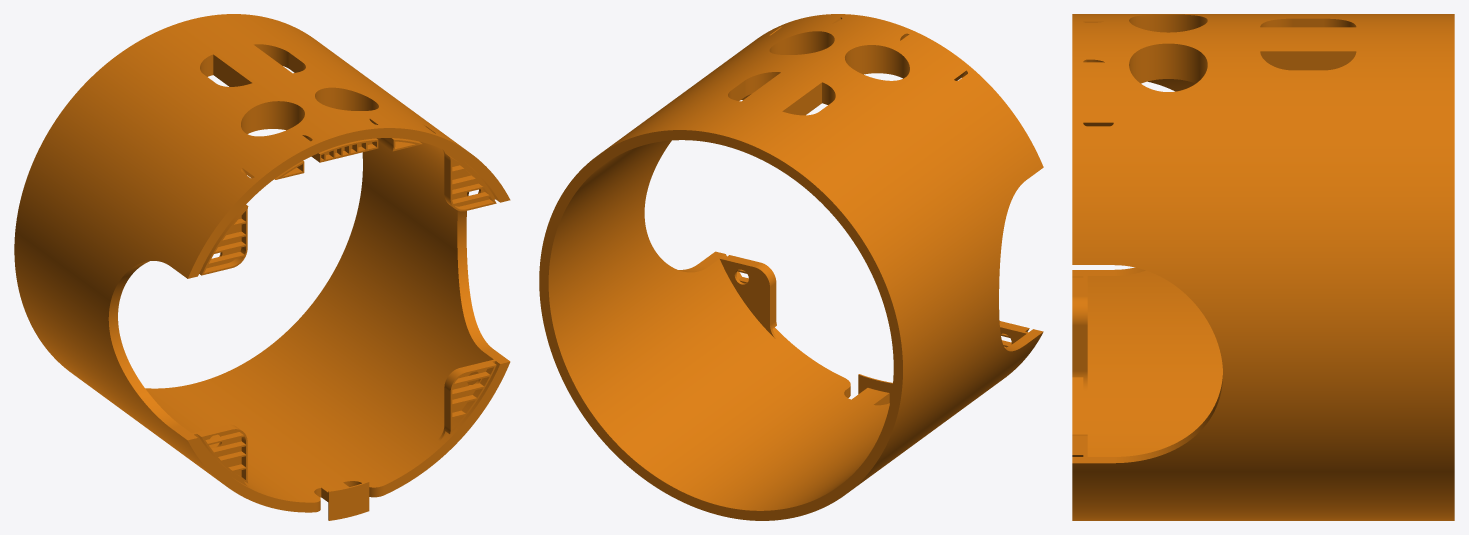
Rendered from Carcazav2.obj.
3 views of the same model, side by side, from view 1: azimuth 30°, elevation 25°; view 2: azimuth 150°, elevation 25°; view 3: azimuth 270°, elevation 25° (orthographic). The views are drawn at different scales.
Parts seen in each view (by area): view 1: Sólido1; view 2: Sólido1; view 3: Sólido1.
Part boxes in pixels (<box>): Sólido1: <box>14,14,510,520</box>; Sólido1: <box>539,14,1043,520</box>; Sólido1: <box>1072,14,1454,520</box>.
Size of the model in its own units: 116 by 119 by 87.5.
